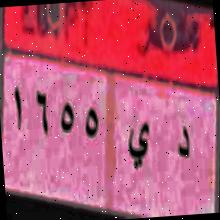1: (10, 79, 27, 136)
5: (80, 104, 102, 159), (56, 95, 78, 141)
6: (32, 82, 52, 140)
daal: (169, 113, 192, 173)
yaa: (124, 116, 152, 176)
